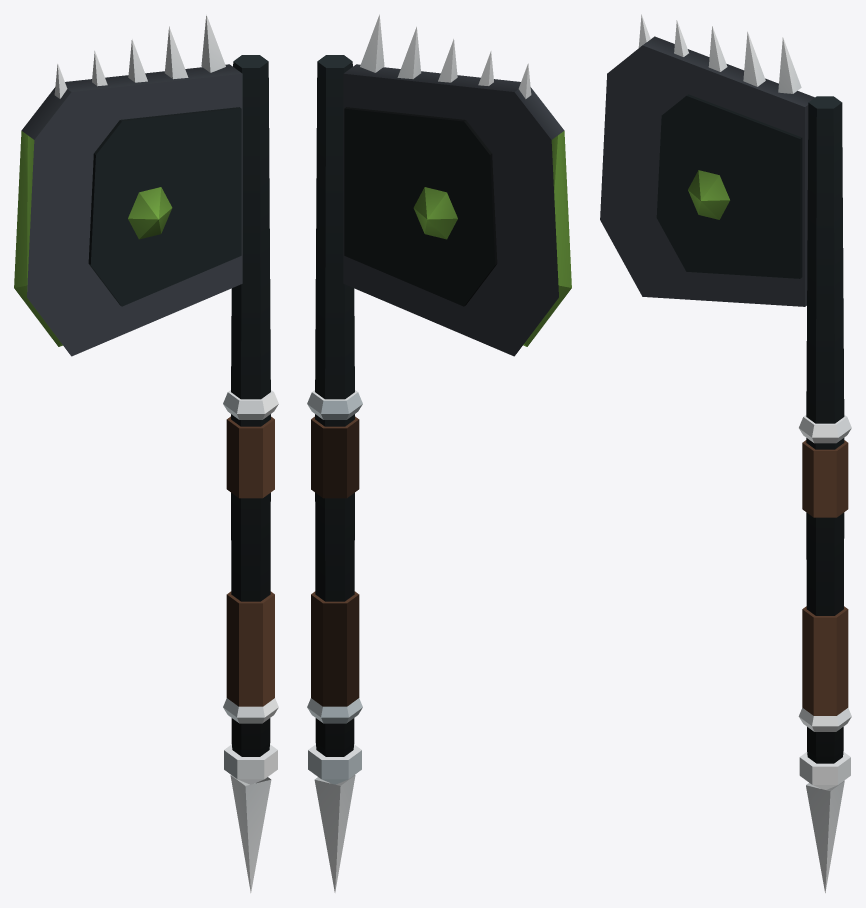
Rendered from uniq_cleaver.gltf.
The picture shows the model from 3 angles, left to right: view 1: azimuth 30°, elevation 25°; view 2: azimuth 150°, elevation 25°; view 3: azimuth 330°, elevation 25°; orthographic projection. The views are drawn at different scales.
Visible parts, largest first — view 1: uniq_cleaver; view 2: uniq_cleaver; view 3: uniq_cleaver.
Part boxes in pixels (box(x1,y1,x2,y2)): uniq_cleaver: box(14, 14, 278, 892); uniq_cleaver: box(307, 14, 571, 892); uniq_cleaver: box(600, 14, 851, 892).
Size of the model in its own units: 0.6765 by 2.29 by 0.18.
Materials: 1 (1 with a texture image).
